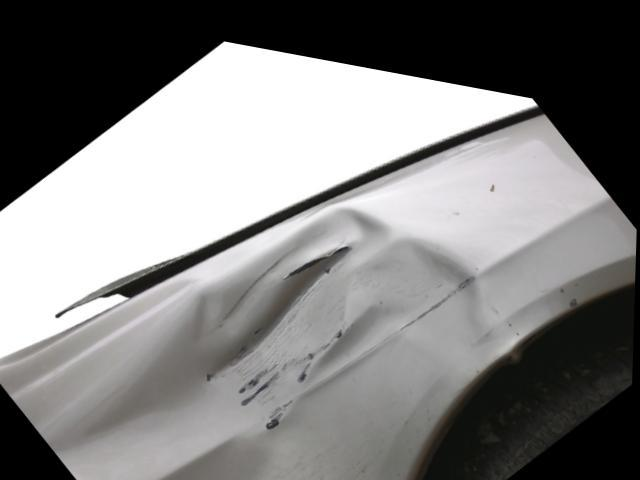dent: (78, 194, 509, 449)
